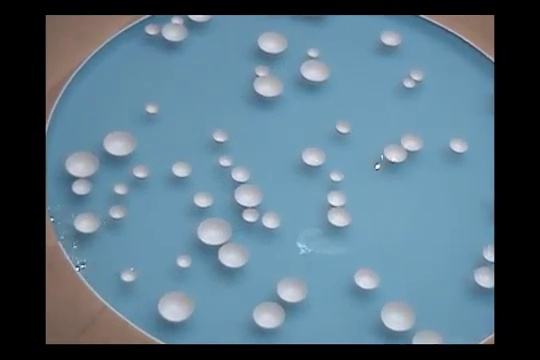bowl: (156, 291, 195, 323), (380, 301, 416, 331), (196, 217, 232, 245), (251, 301, 287, 329), (102, 130, 139, 157), (276, 275, 309, 303), (65, 151, 99, 178), (218, 243, 250, 269), (257, 31, 289, 56), (252, 76, 285, 100), (299, 60, 331, 83), (72, 212, 104, 234), (234, 183, 264, 206), (353, 267, 381, 290), (382, 143, 410, 165), (161, 22, 189, 43), (473, 263, 494, 290), (301, 146, 327, 167), (327, 207, 353, 228), (400, 133, 425, 153), (412, 329, 444, 344), (379, 30, 402, 48), (193, 190, 215, 208), (171, 160, 192, 178), (108, 203, 129, 221), (72, 178, 93, 195), (448, 137, 469, 154), (327, 190, 348, 207), (231, 165, 251, 182), (262, 212, 281, 229), (212, 128, 230, 145), (132, 164, 150, 180), (241, 207, 259, 222), (120, 268, 138, 283), (335, 119, 353, 134), (189, 14, 213, 24), (144, 102, 161, 116), (175, 254, 192, 268), (409, 69, 426, 83), (254, 64, 272, 77), (218, 153, 234, 167), (402, 76, 418, 90), (144, 23, 161, 36), (481, 244, 494, 261), (306, 47, 322, 59), (113, 184, 130, 195), (330, 170, 345, 182), (170, 14, 185, 25)
